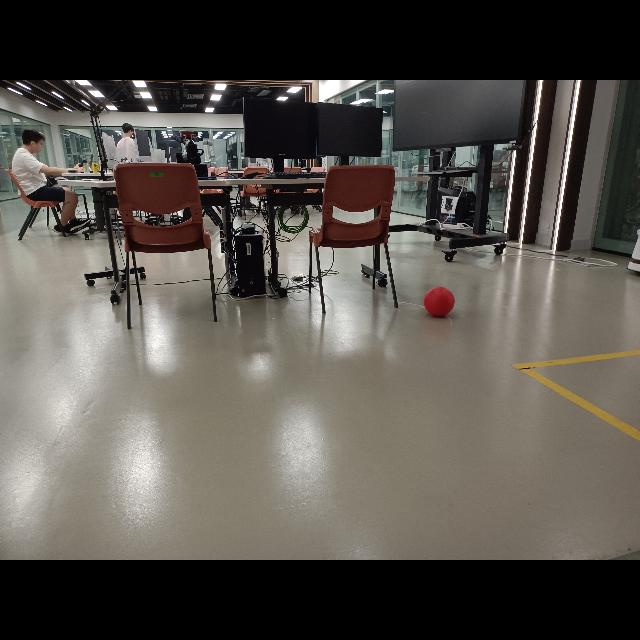R: (424, 286, 456, 318)
